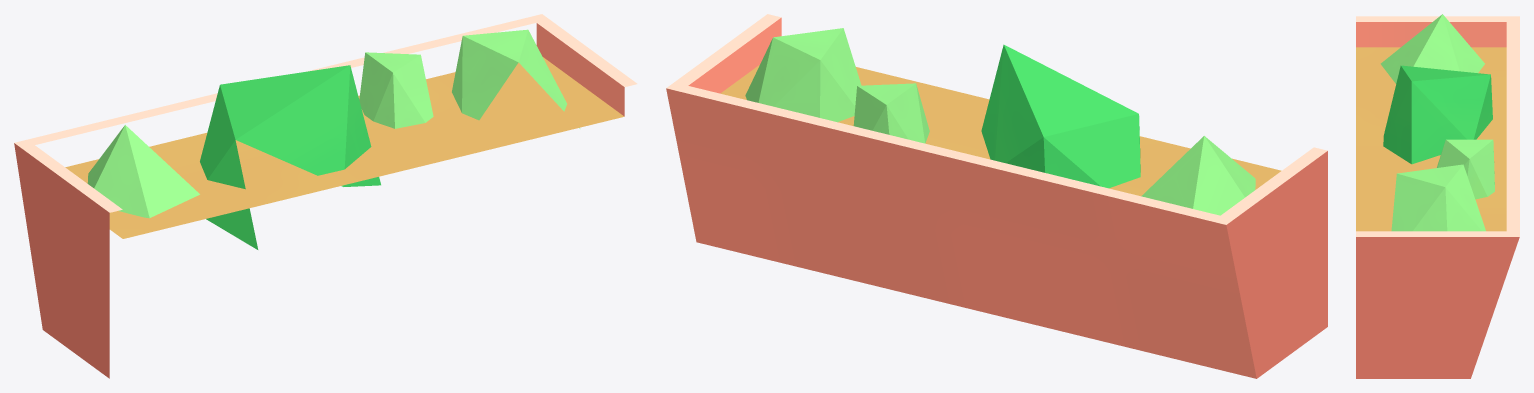
Rendered from trees.glb.
3 renders of one model, left to right at view 1: azimuth 30°, elevation 25°; view 2: azimuth 150°, elevation 25°; view 3: azimuth 270°, elevation 25°, orthographic. The views are drawn at different scales.
Parts seen in each view (by area): view 1: trees(Clone); view 2: trees(Clone); view 3: trees(Clone).
Boxes of the visible parts, box(x1,y1,x2,y2) form: trees(Clone): box(14, 14, 637, 378); trees(Clone): box(666, 14, 1327, 378); trees(Clone): box(1356, 14, 1519, 378).
Bounding box in the file's own units: 1.13 × 0.4578 × 0.3554.
Materials: 1 (1 with a texture image).
